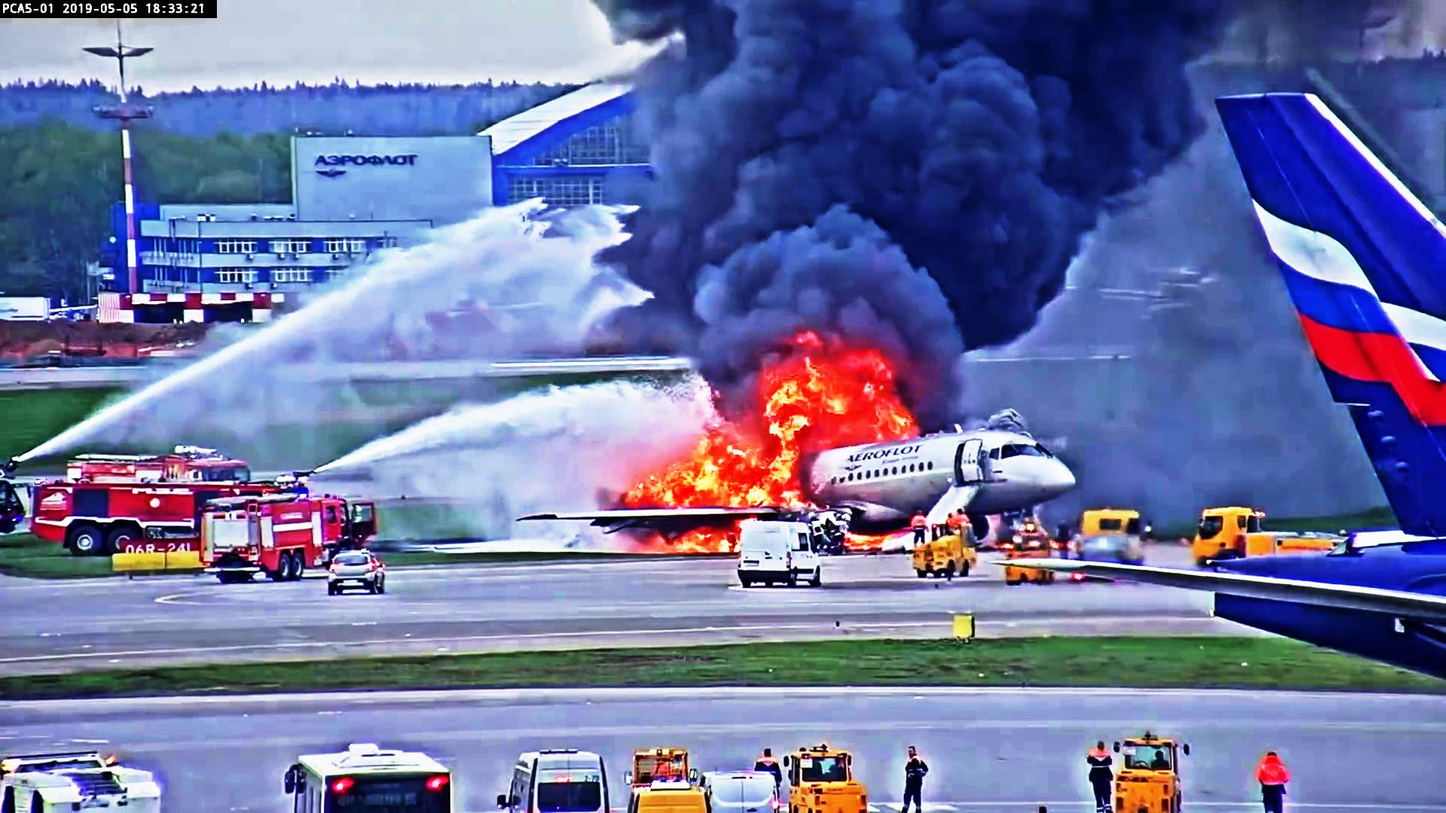fire: (767, 343, 901, 449), (635, 440, 801, 505)
smoke: (701, 0, 1031, 354)
